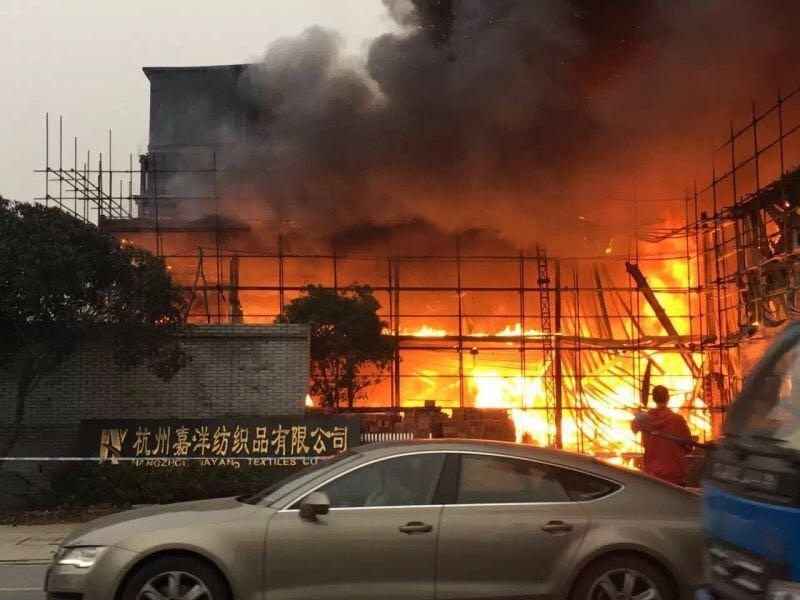fire: (401, 240, 719, 461)
